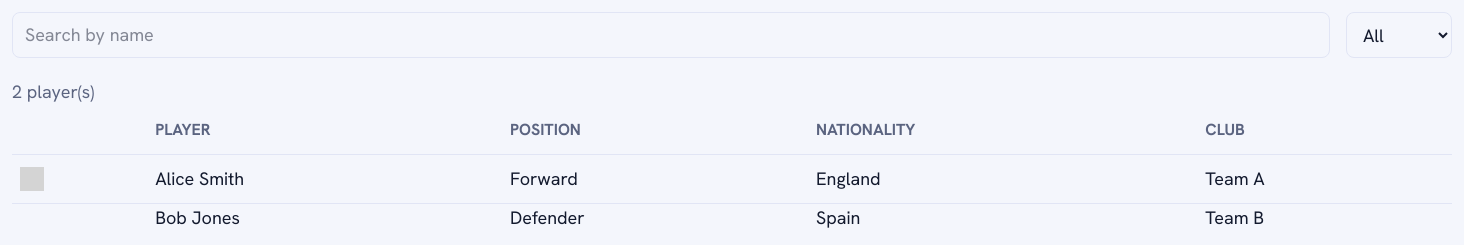
Test: PlayerDirectoryTable › filters by search text without refetching
The width and height of the screenshot is (1464, 245).
Expected: the text "Alice Smith" is shown, [147,154,502,204]
Type "Bob" into the field with placeholder "Search by name". click: (671, 35)
box: [12,12,1330,58]
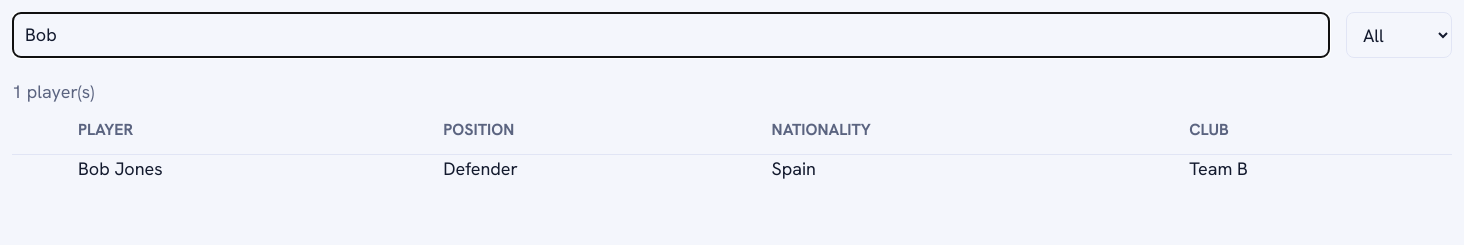
Expected: the text "Bob Jones" is shown, [70,154,435,183]
Result: the text "Alice Smith" is gone
